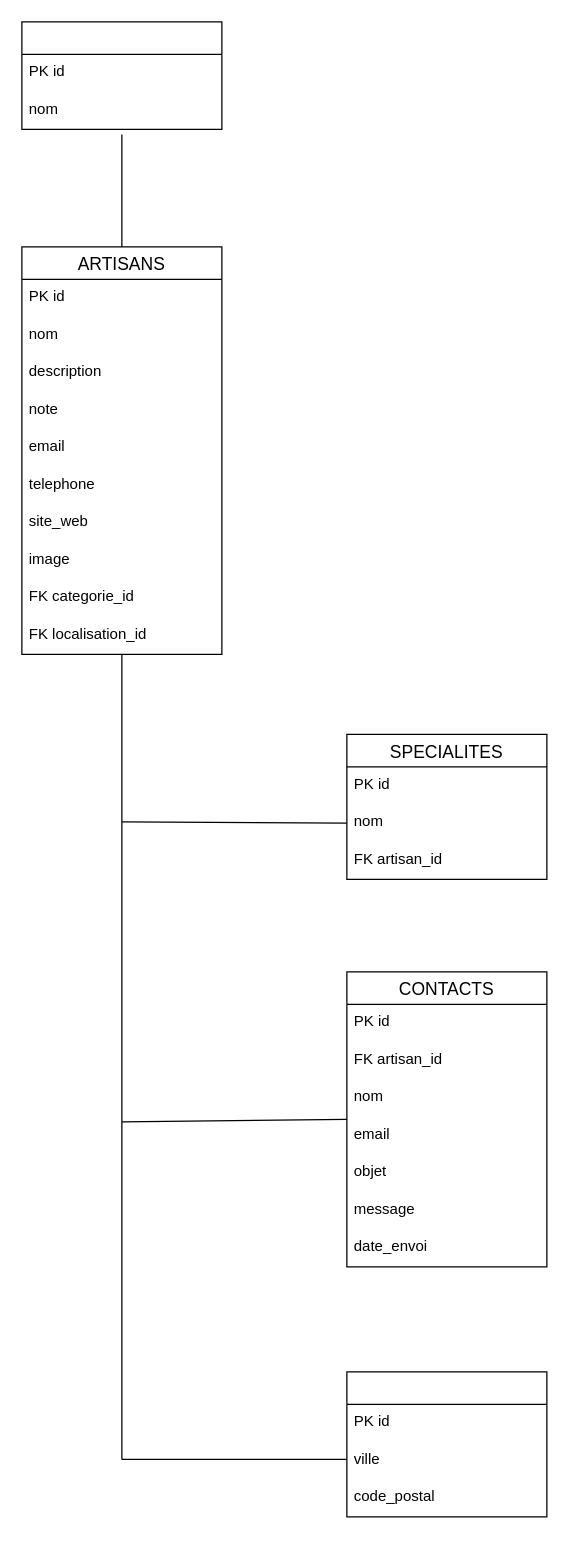
The diagram is 569 pixels wide and 1543 high, and some of its shapes have lost their labels. The shapes that lost their labels are listed below. From the top down, each one's box as (x1, y1, x2, y2) in pixels, then its label:
(21, 21, 222, 129): CATEGORIES
(346, 1371, 547, 1517): LOCALISATIONS
